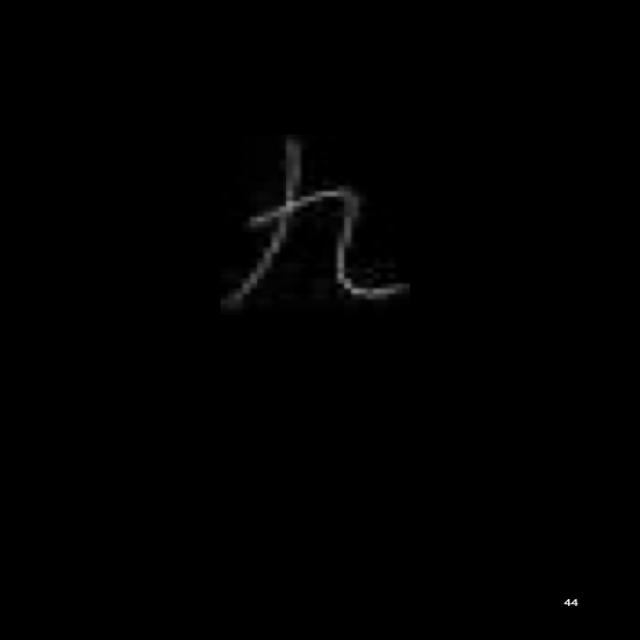9 -nine-: (213, 131, 408, 311)
